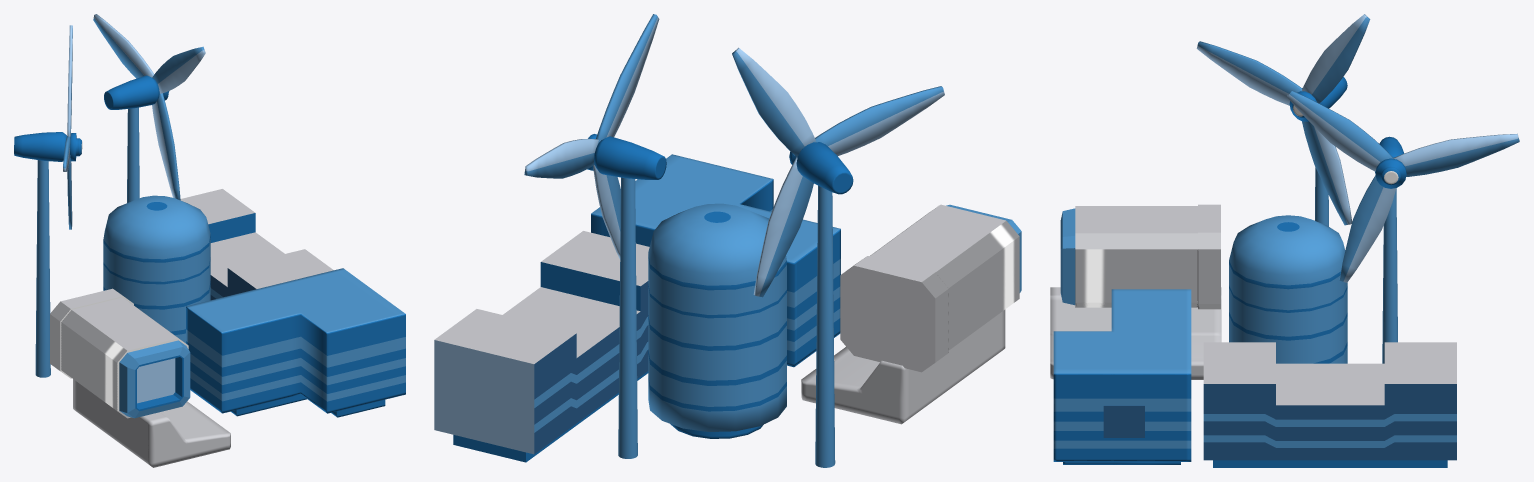
Rendered from MiniWorld_windfarm_animated_lowPoly.glb.
3 views of the same model, side by side, from view 1: azimuth 30°, elevation 25°; view 2: azimuth 150°, elevation 25°; view 3: azimuth 270°, elevation 25° (orthographic). The views are drawn at different scales.
Parts seen in each view (by area): view 1: sideBuilding, base, waterTower, mainBuilding, camera, blades.001, windMill_back, bladesHolder, bladesHolder.001, windMill_front, blades; view 2: mainBuilding, waterTower, base, sideBuilding, blades, camera, blades.001, windMill_back, windMill_front, bladesHolder.001, bladesHolder; view 3: mainBuilding, sideBuilding, waterTower, base, blades.001, blades, camera, windMill_front, window, bladesHolder.001, bladesHolder, windMill_back.
Boxes of the visible parts, box(x1,y1,x2,y2) form: sideBuilding: box(186, 268, 405, 417); base: box(50, 288, 190, 418); waterTower: box(103, 195, 210, 343); mainBuilding: box(180, 189, 333, 300); camera: box(73, 379, 230, 467); blades.001: box(93, 14, 205, 200); windMill_back: box(35, 160, 50, 377); bladesHolder: box(14, 132, 82, 161); bladesHolder.001: box(104, 75, 169, 109); windMill_front: box(127, 107, 139, 202); blades: box(63, 25, 72, 229); mainBuilding: box(434, 231, 649, 462); waterTower: box(648, 203, 786, 438); base: box(840, 204, 1021, 372); sideBuilding: box(591, 154, 840, 367); blades: box(732, 47, 944, 297); camera: box(801, 309, 1005, 424); blades.001: box(524, 14, 659, 259); windMill_back: box(815, 185, 835, 467); windMill_front: box(618, 177, 637, 458); bladesHolder.001: box(587, 134, 666, 179); bladesHolder: box(789, 142, 853, 194); mainBuilding: box(1203, 342, 1456, 467); sideBuilding: box(1053, 289, 1191, 464); waterTower: box(1229, 215, 1347, 363); base: box(1060, 204, 1220, 309); blades.001: box(1287, 90, 1519, 282); blades: box(1196, 14, 1370, 225); camera: box(1050, 287, 1221, 379); windMill_front: box(1382, 188, 1397, 363); window: box(1103, 405, 1144, 437); bladesHolder.001: box(1375, 136, 1406, 188); bladesHolder: box(1289, 77, 1347, 121); windMill_back: box(1315, 167, 1328, 226).
Bounding box in the file's own units: 10.87 × 11.98 × 14.33.
Materials: 14 (1 with a texture image).
